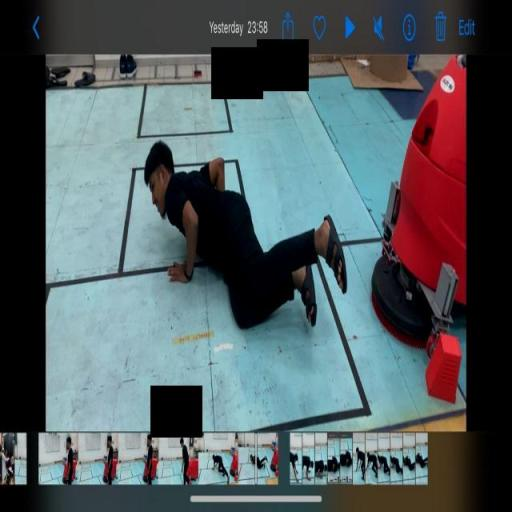Fall: (144, 128, 355, 344)
